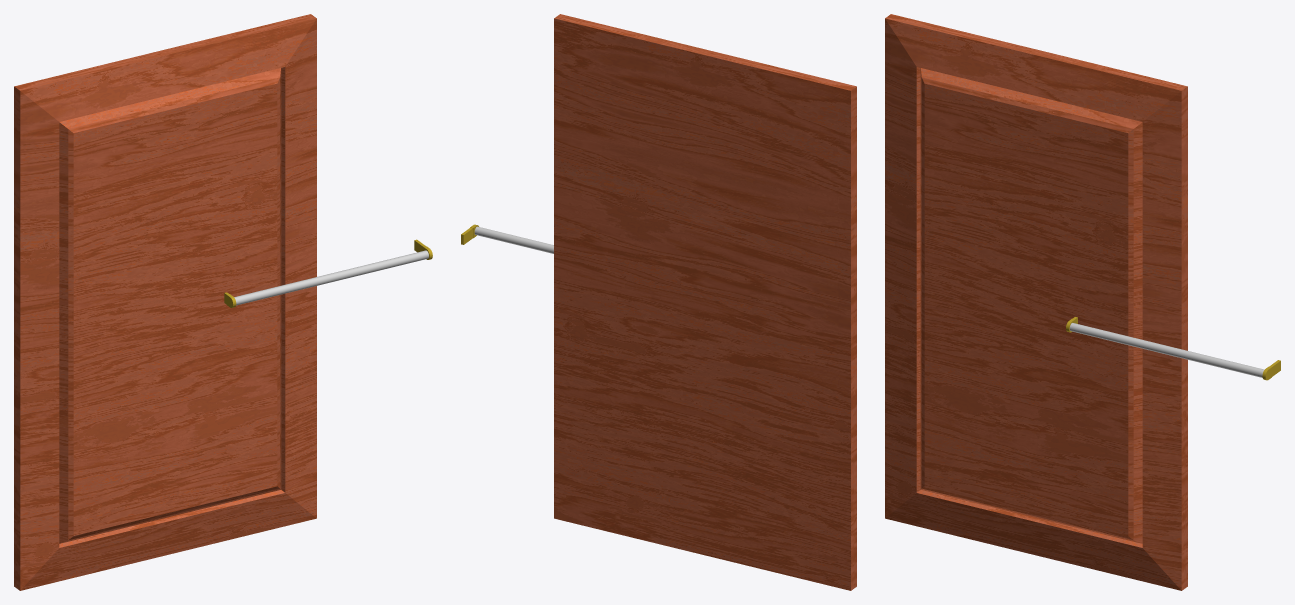
File: Cabinet_567a7cf5.obj
3 views of the same model, side by side, from view 1: azimuth 30°, elevation 25°; view 2: azimuth 150°, elevation 25°; view 3: azimuth 330°, elevation 25° (orthographic).
Visible parts, largest first — view 1: Mesh_01_192fedbd, handle_2_305mm_01_6dd41884; view 2: Mesh_01_192fedbd, handle_2_305mm_01_6dd41884; view 3: Mesh_01_192fedbd, handle_2_305mm_01_6dd41884.
Part boxes in pixels (bbox=[...]): Mesh_01_192fedbd: bbox=[14, 14, 316, 590]; handle_2_305mm_01_6dd41884: bbox=[224, 239, 432, 307]; Mesh_01_192fedbd: bbox=[554, 14, 856, 590]; handle_2_305mm_01_6dd41884: bbox=[461, 224, 553, 253]; Mesh_01_192fedbd: bbox=[885, 14, 1187, 590]; handle_2_305mm_01_6dd41884: bbox=[1066, 317, 1280, 380].
Size of the model in its own units: 0.6058 by 0.73 by 0.0585.
